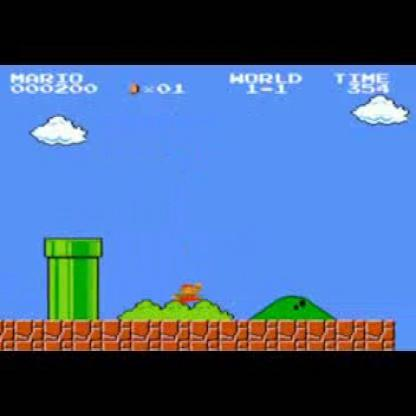Hoyo: (390, 311, 415, 352)
